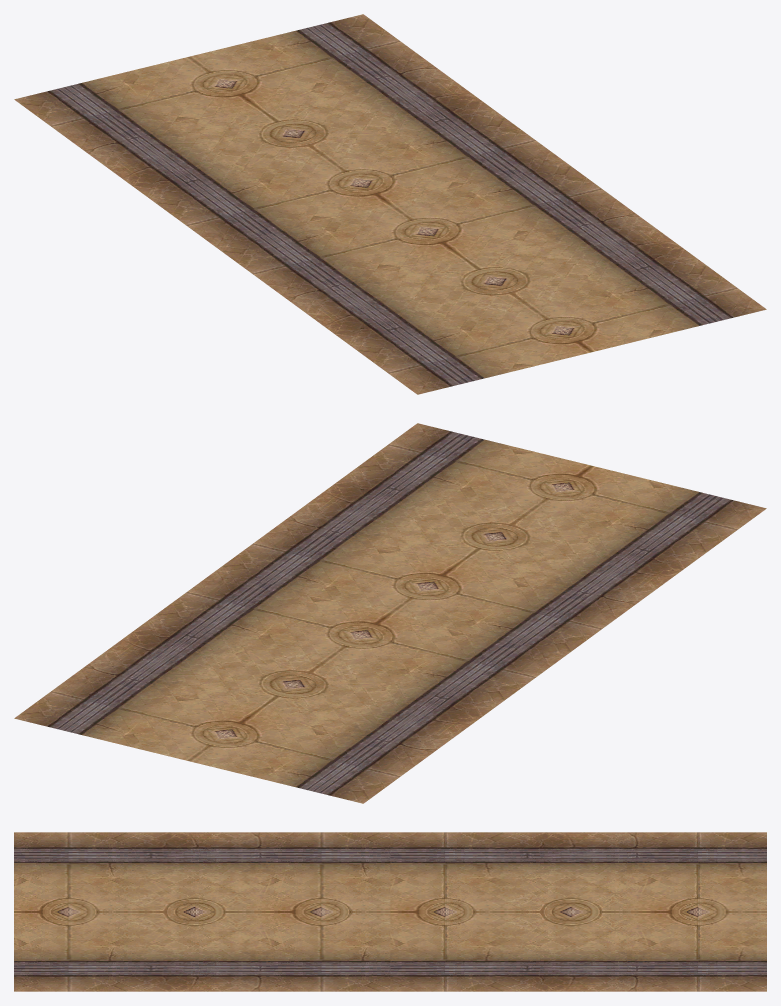
Rendered from S_Build_City139_A1.FBX.
3 views of the same model, one above another, from view 1: azimuth 30°, elevation 25°; view 2: azimuth 150°, elevation 25°; view 3: azimuth 270°, elevation 25° (orthographic). The views are drawn at different scales.
Visible parts, largest first — view 1: S_Build_City139_A1; view 2: S_Build_City139_A1; view 3: S_Build_City139_A1.
Part boxes in pixels (bbox=[...]): S_Build_City139_A1: bbox=[14, 14, 766, 394]; S_Build_City139_A1: bbox=[14, 423, 766, 803]; S_Build_City139_A1: bbox=[14, 832, 766, 991].
Bounding box in the file's own units: 1070 × 0.00314 × 2139.
1 material, 1 textured.
